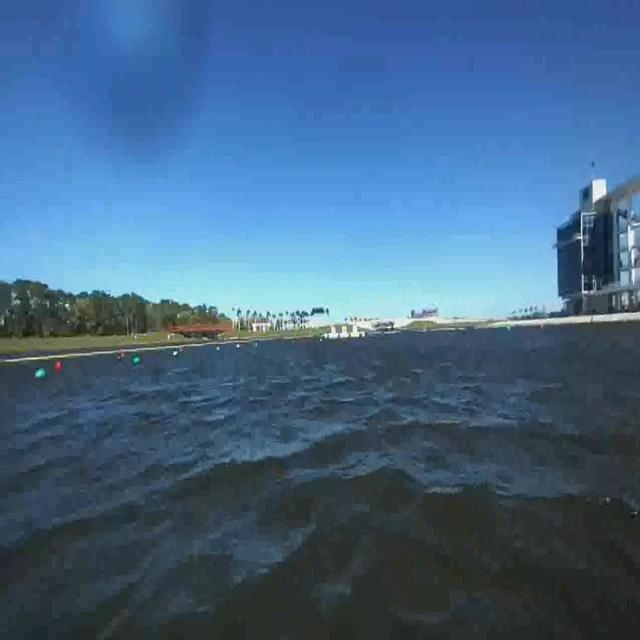green-buoy: (33, 368, 45, 378), (134, 356, 142, 365)
red-buoy: (56, 362, 64, 369)
